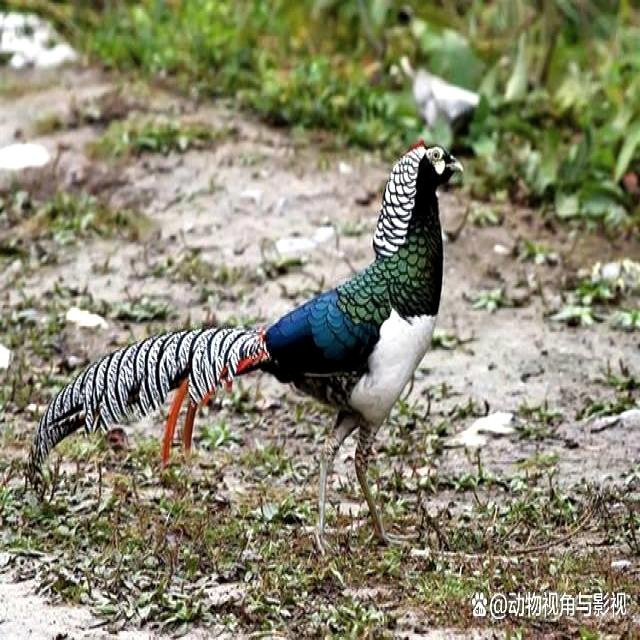Chrysolophus amherstiae: (33, 328, 268, 460)
